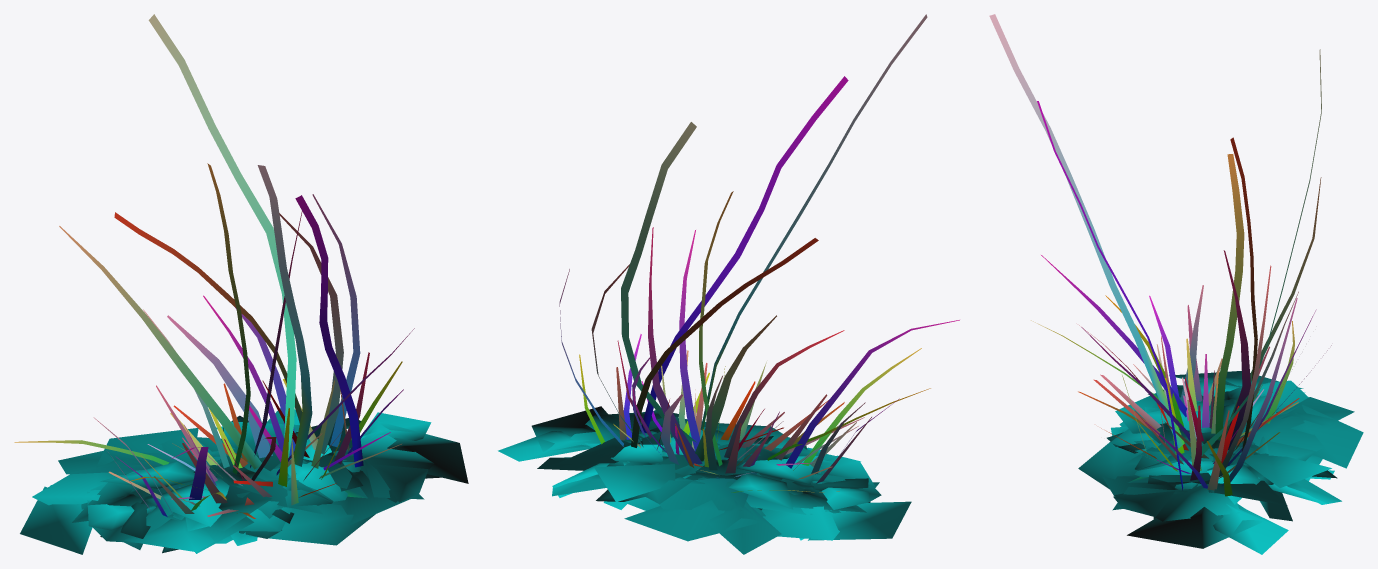
The model's file is Wild_Grass_vczndjqja_Mid_vczndjqja_VarH_LOD2.fbx.
3 views of the same model, side by side, from view 1: azimuth 30°, elevation 25°; view 2: azimuth 150°, elevation 25°; view 3: azimuth 270°, elevation 25° (orthographic). The views are drawn at different scales.
Parts seen in each view (by area): view 1: _sjhz_VarH_LOD3; view 2: _sjhz_VarH_LOD3; view 3: _sjhz_VarH_LOD3.
Part boxes in pixels (x1=…): _sjhz_VarH_LOD3: x1=14, y1=14, x2=468, y2=554; _sjhz_VarH_LOD3: x1=498, y1=14, x2=959, y2=554; _sjhz_VarH_LOD3: x1=989, y1=14, x2=1363, y2=554.
Bounding box in the file's own units: 89.72 × 90.56 × 76.74.
